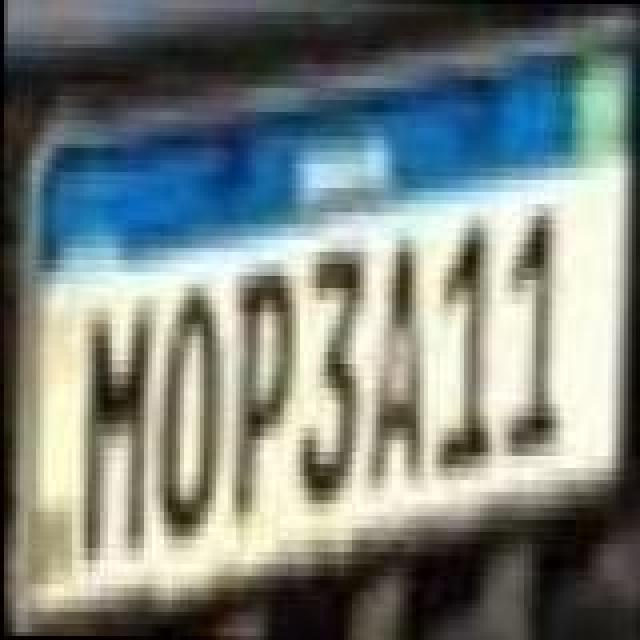1: (500, 200, 568, 464), (434, 214, 498, 478)
3: (296, 244, 364, 508)
A: (366, 230, 430, 494)
M: (78, 302, 154, 554)
O: (158, 288, 226, 540)
P: (230, 264, 298, 528)
